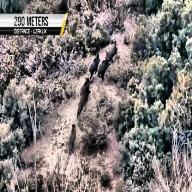boar: (67, 117, 82, 163)
